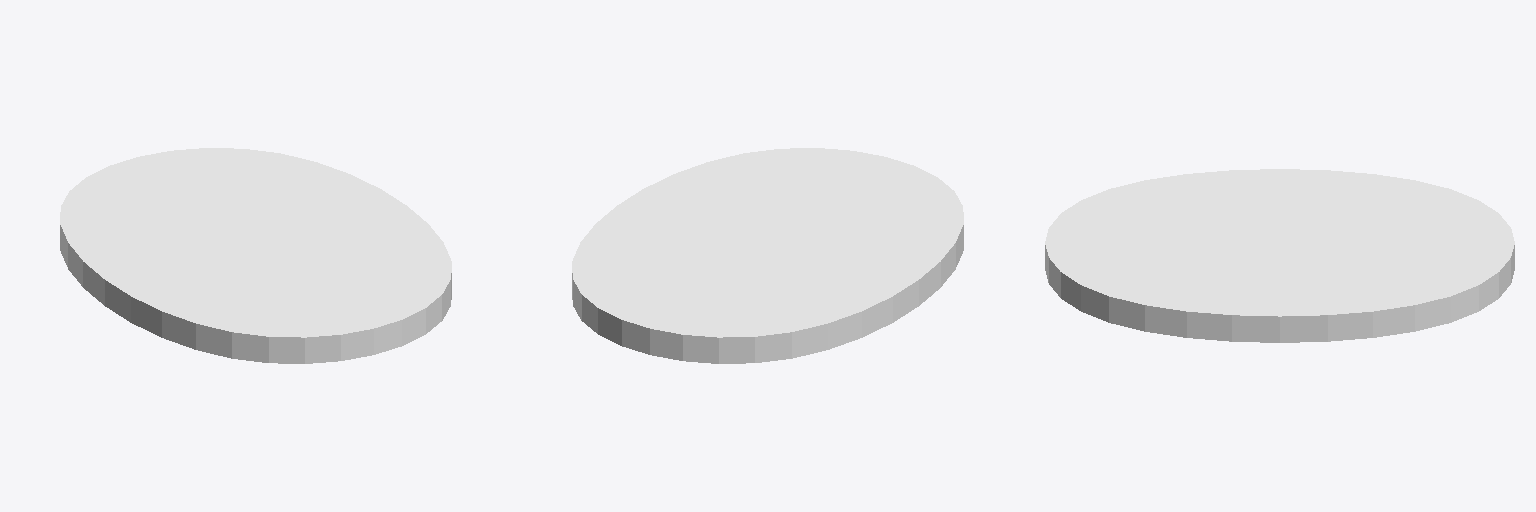
Rendered from stage2.obj.
3 views of the same model, side by side, from view 1: azimuth 30°, elevation 25°; view 2: azimuth 150°, elevation 25°; view 3: azimuth 270°, elevation 25° (orthographic).
Parts seen in each view (by area): view 1: stage.001; view 2: stage.001; view 3: stage.001.
Part boxes in pixels (bbox=[...]): stage.001: bbox=[60, 148, 451, 363]; stage.001: bbox=[572, 148, 963, 363]; stage.001: bbox=[1045, 169, 1514, 342].
Bounding box in the file's own units: 5.6 × 0.4688 × 7.54.